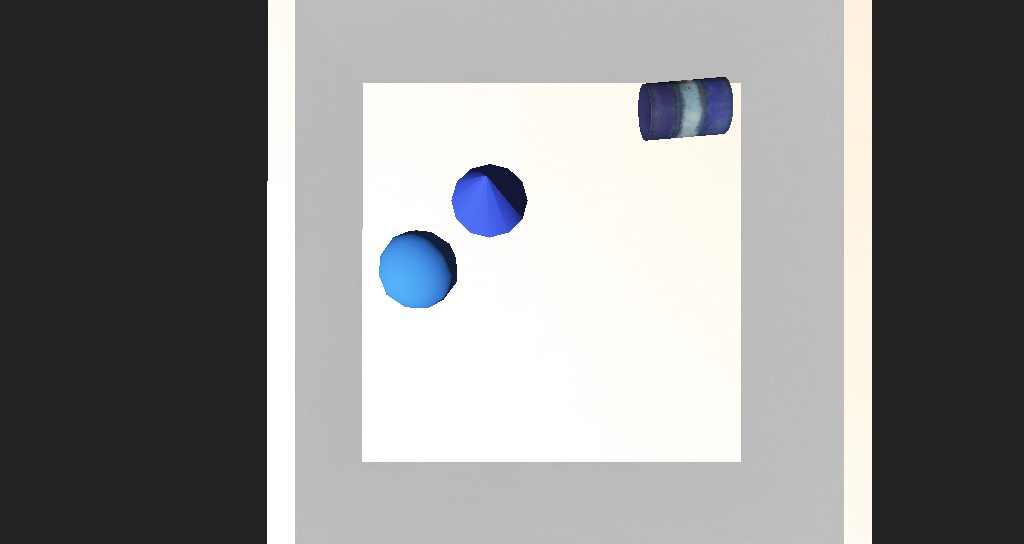cone: (576, 155, 650, 198)
cylinder: (418, 191, 485, 248)
sphere: (364, 246, 431, 289)
